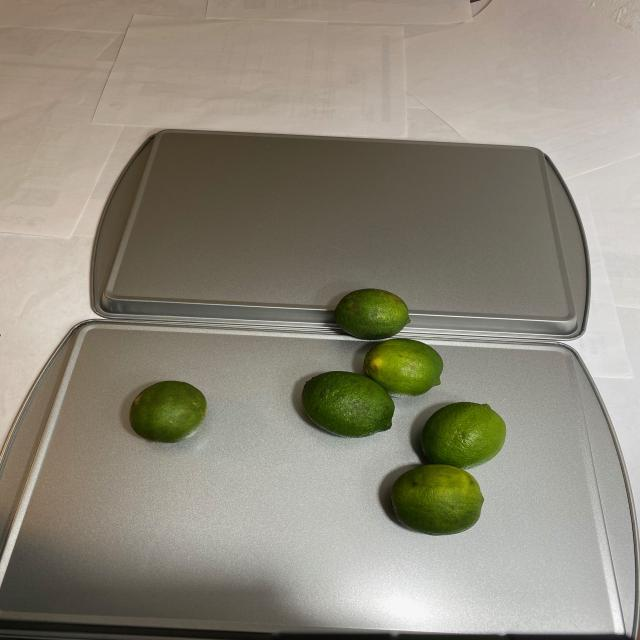lemon: (289, 283, 506, 544), (125, 378, 208, 448)
